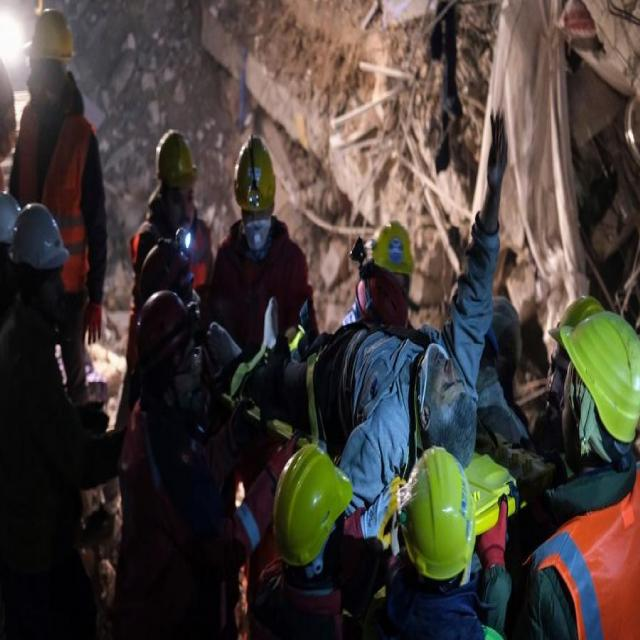Reflective-Jacket: (534, 441, 638, 640), (11, 97, 100, 296)
Safety-Helmet: (401, 442, 477, 586), (272, 440, 354, 572), (6, 196, 72, 282), (230, 134, 279, 219), (23, 4, 77, 71), (367, 208, 417, 280), (153, 126, 200, 192), (1, 190, 21, 249)
